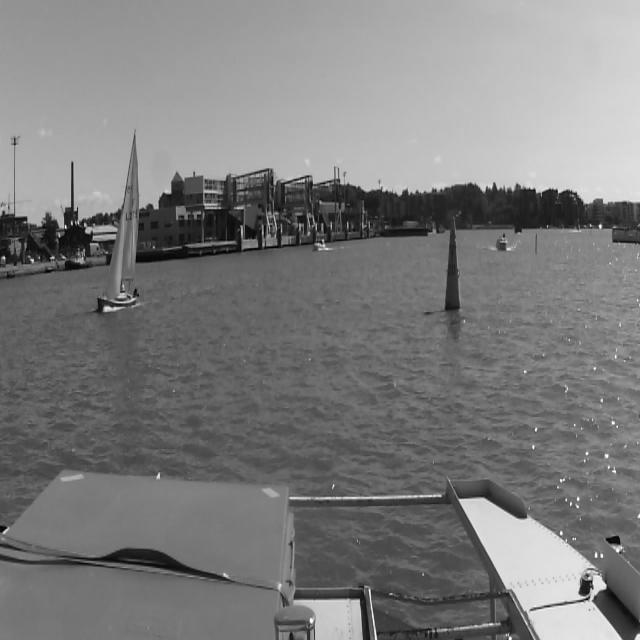buoy: (444, 216, 460, 310), (533, 229, 537, 255)
ship: (96, 128, 140, 317), (496, 232, 508, 252), (312, 238, 326, 252)
